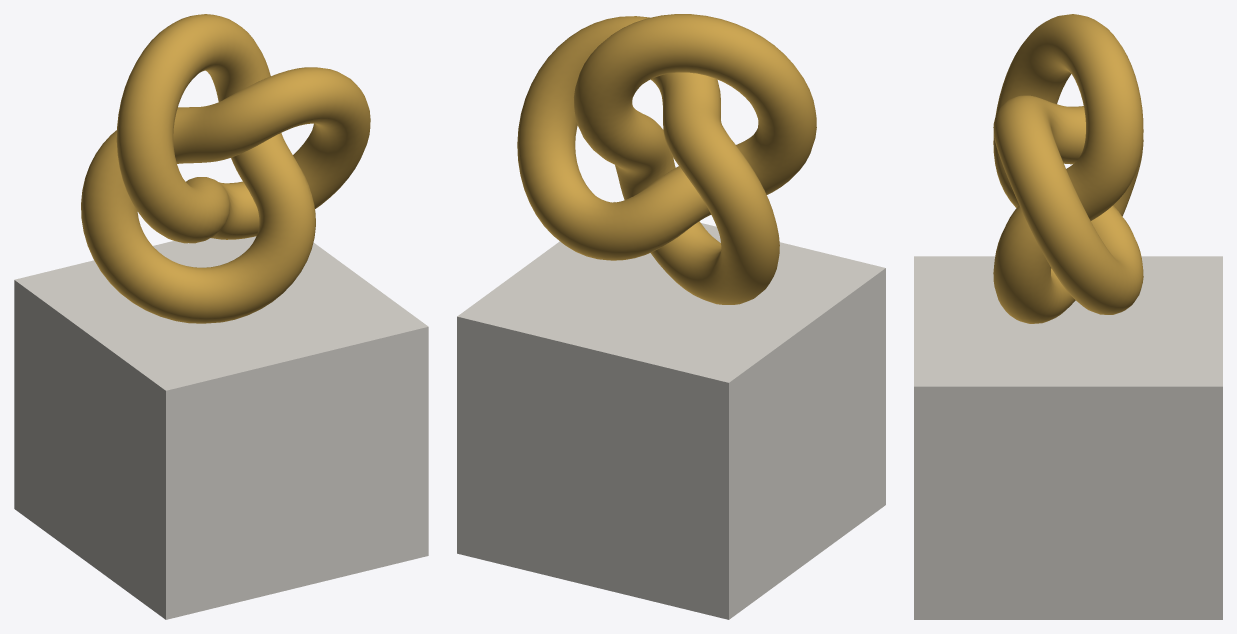
Rendered from sculpture.glb.
3 views of the same model, side by side, from view 1: azimuth 30°, elevation 25°; view 2: azimuth 150°, elevation 25°; view 3: azimuth 270°, elevation 25° (orthographic). The views are drawn at different scales.
Visible parts, largest first — view 1: Abstract sculpture; view 2: Abstract sculpture; view 3: Abstract sculpture.
Part boxes in pixels (x1,y1,x2,y2): Abstract sculpture: (14, 14, 428, 619); Abstract sculpture: (457, 14, 885, 619); Abstract sculpture: (914, 14, 1222, 619).
Size of the model in its own units: 0.313 by 0.5551 by 0.3.
